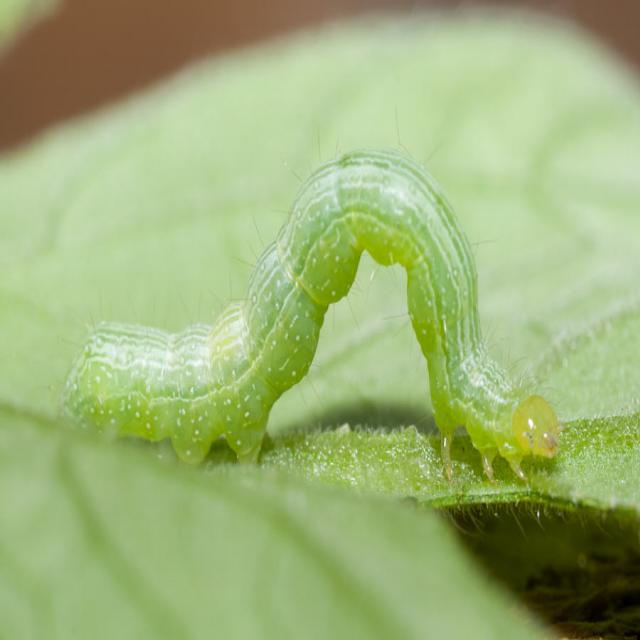looper: (44, 108, 559, 502)
